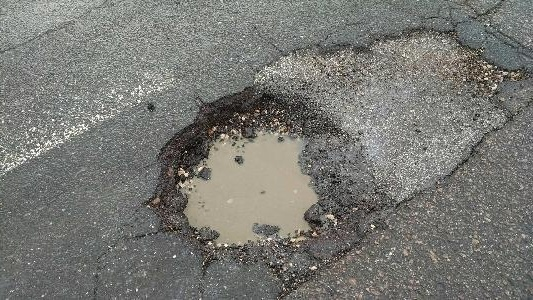pothole: (147, 81, 345, 264)
